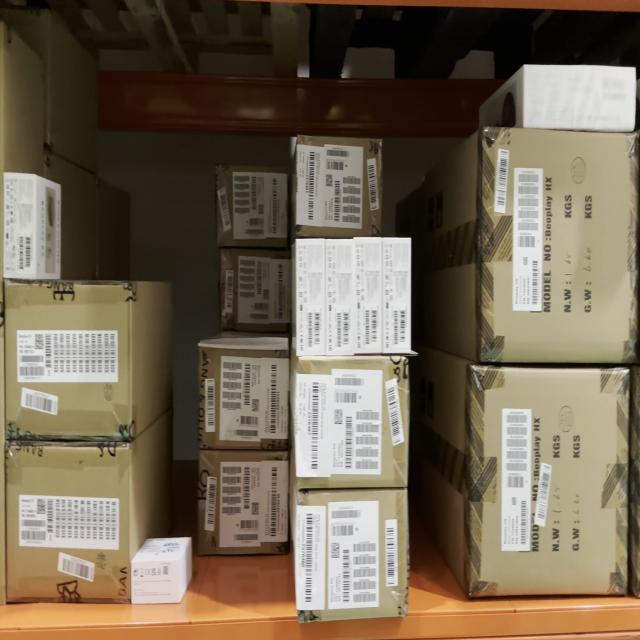box: (482, 134, 638, 360), (474, 369, 627, 595), (7, 443, 129, 601), (7, 281, 130, 437), (301, 491, 406, 619), (299, 360, 407, 484), (200, 346, 288, 447), (200, 454, 288, 552), (298, 136, 381, 234), (525, 65, 633, 129), (222, 250, 291, 329), (218, 167, 288, 242), (383, 239, 412, 352), (297, 240, 325, 352), (5, 173, 35, 277), (355, 238, 381, 352), (327, 241, 353, 353), (132, 564, 181, 601)
